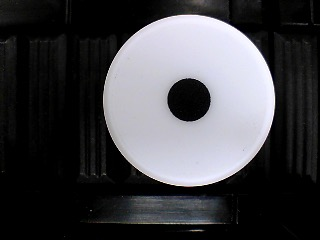BOHO: (102, 14, 276, 187)
